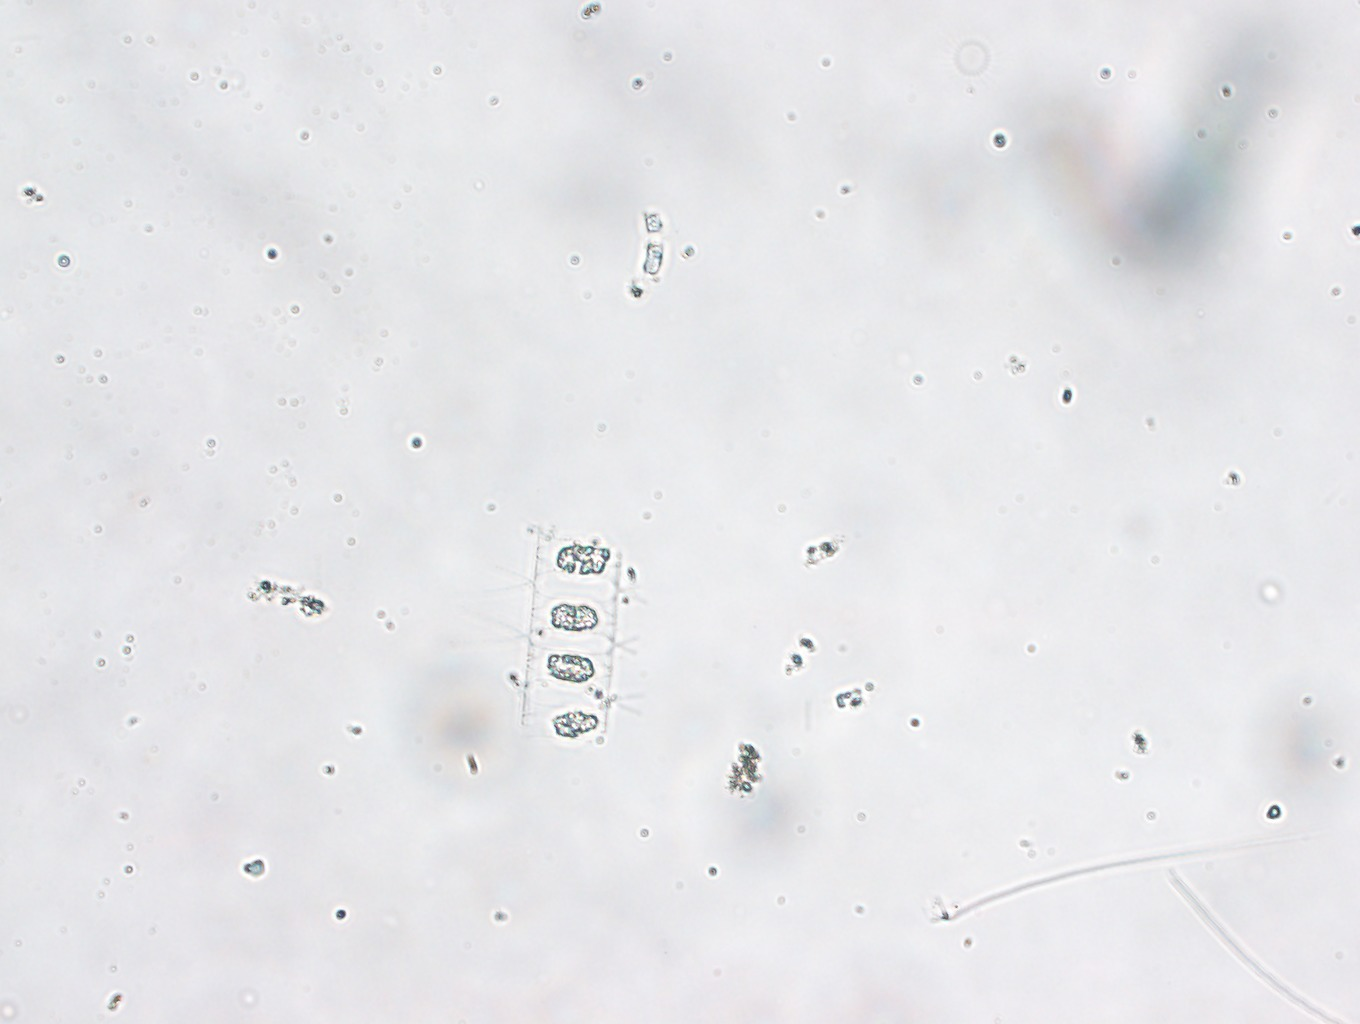chaetoceros: (479, 523, 660, 745)
